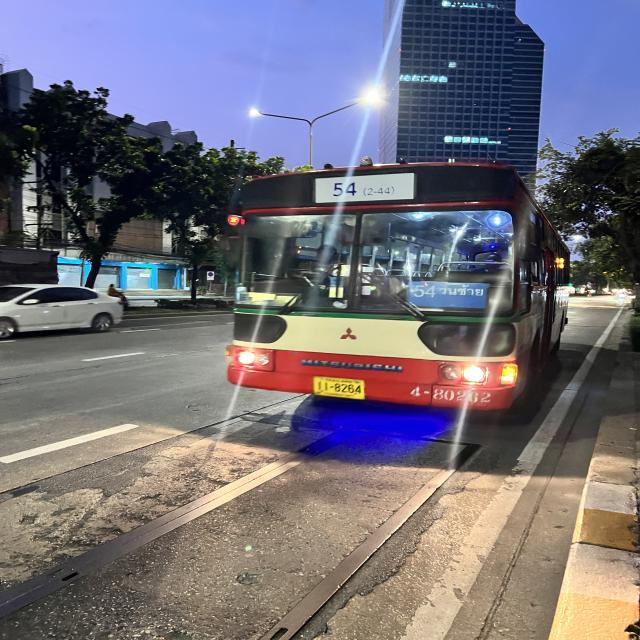BMTA-bus: (225, 162, 571, 422)
Bus-Line-Number: (312, 177, 414, 204)
Destination-Sign-Normal: (405, 279, 495, 310)
